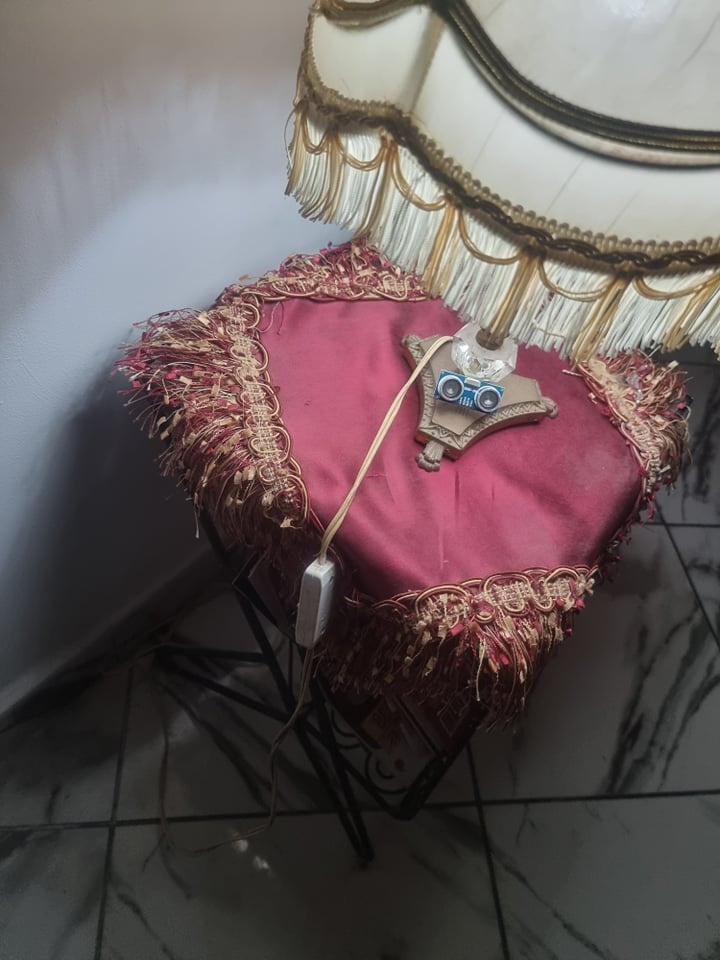SENSOR: (431, 370, 506, 415)
